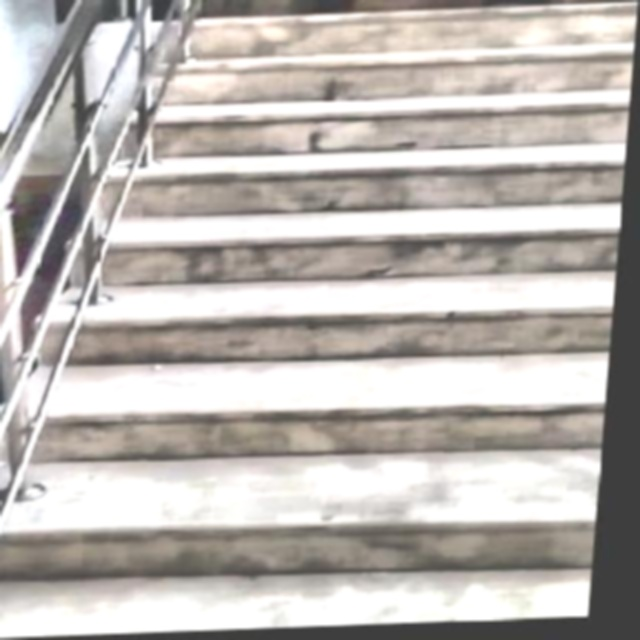stair: (31, 3, 637, 637)
